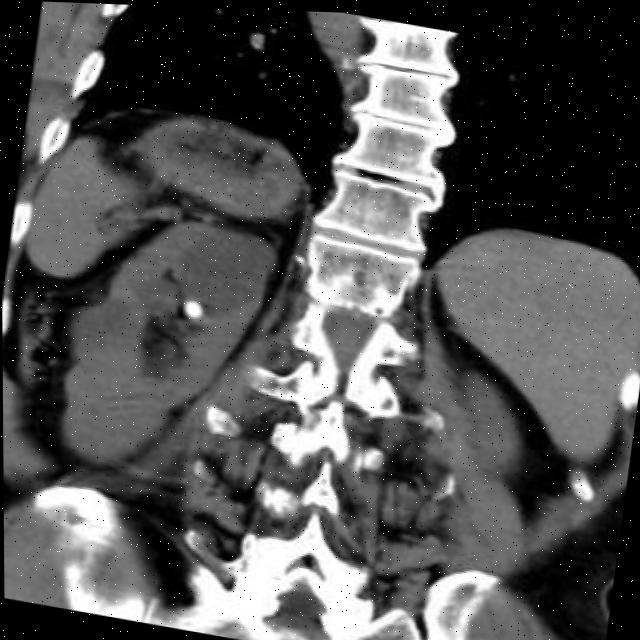Tas_Var: (178, 290, 204, 326)
